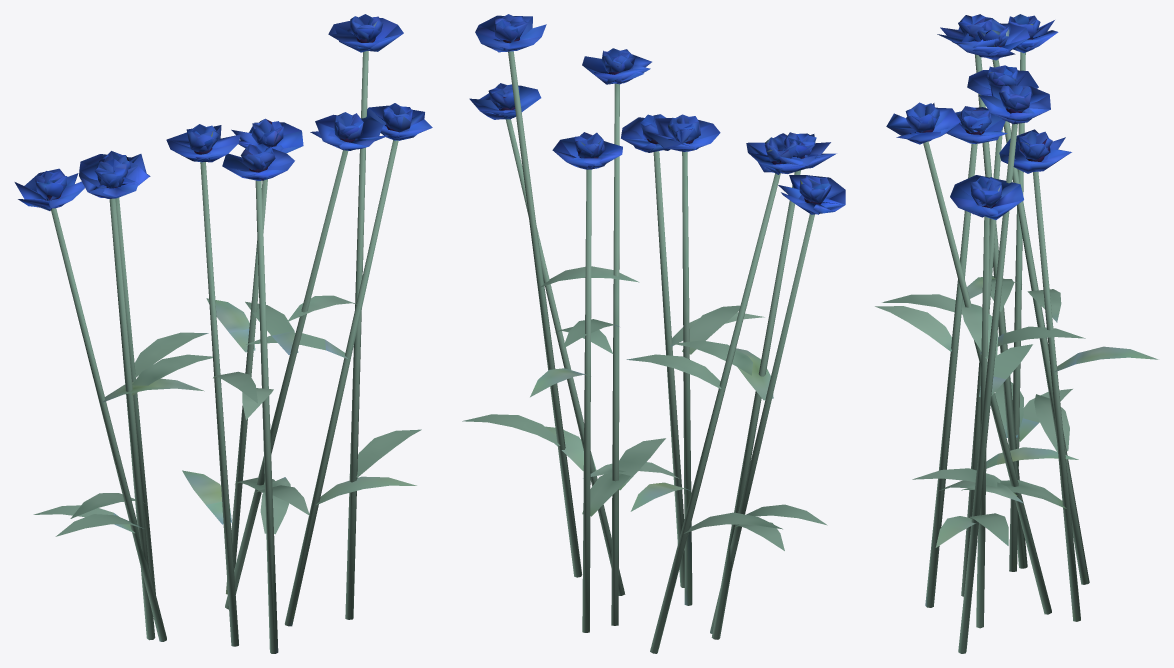
The model's file is crop_cornflower.glb.
3 renders of one model, left to right at view 1: azimuth 30°, elevation 25°; view 2: azimuth 150°, elevation 25°; view 3: azimuth 270°, elevation 25°, orthographic. The views are drawn at different scales.
Parts seen in each view (by area): view 1: crop_cornflower, fruit; view 2: crop_cornflower, fruit; view 3: crop_cornflower, fruit.
Boxes of the visible parts, x1,y1,x2,y2 form: crop_cornflower: (33, 37, 421, 653); fruit: (14, 14, 432, 210); crop_cornflower: (462, 38, 827, 653); fruit: (469, 14, 845, 214); crop_cornflower: (875, 37, 1158, 653); fruit: (886, 14, 1071, 219).
Size of the model in its own units: 0.2361 by 0.325 by 0.1433.
1 material, 1 textured.
